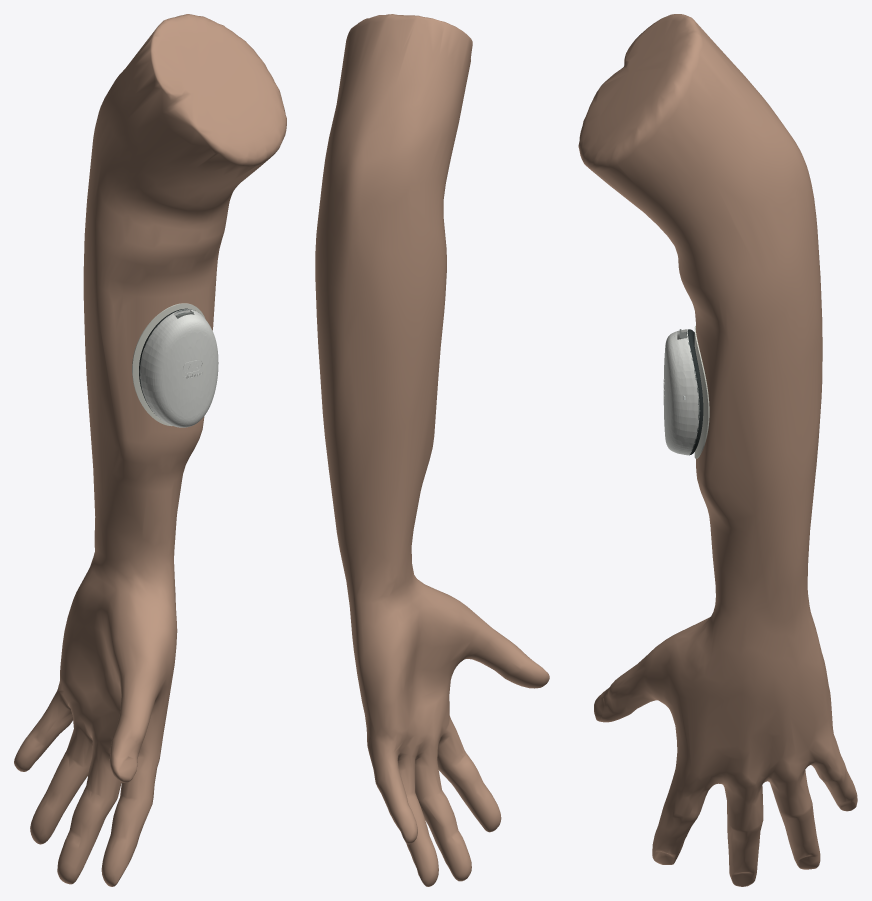
Rendered from mindmap-onarm.glb.
The picture shows the model from 3 angles, left to right: view 1: azimuth 30°, elevation 25°; view 2: azimuth 150°, elevation 25°; view 3: azimuth 270°, elevation 25°; orthographic projection. The views are drawn at different scales.
Parts seen in each view (by area): view 1: Anatomical arm context, Shell rigid core, Medical PU adhesive base; view 2: Anatomical arm context; view 3: Anatomical arm context, Shell rigid core, Medical PU adhesive base, Skin-side shell.
Boxes of the visible parts, x1,y1,x2,y2 form: Anatomical arm context: (14,14,286,886); Shell rigid core: (140,309,218,427); Medical PU adhesive base: (132,303,205,426); Anatomical arm context: (315,14,549,886); Anatomical arm context: (578,14,857,886); Shell rigid core: (663,329,699,455); Medical PU adhesive base: (694,326,709,458); Skin-side shell: (688,329,703,455).
Bounding box in the file's own units: 0.1073 × 0.4811 × 0.1343.
